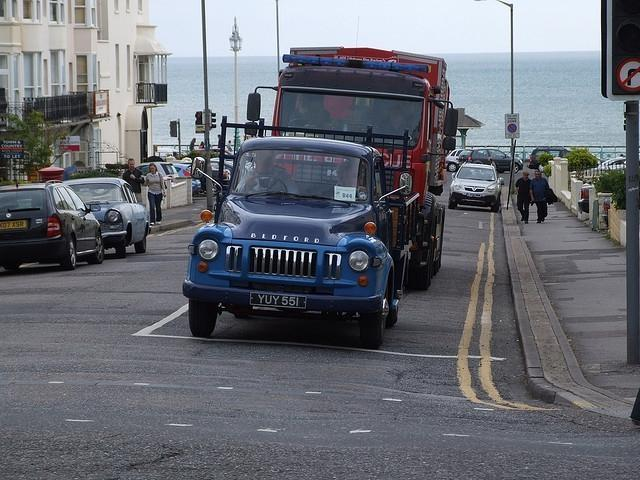car: (0, 183, 105, 274), (64, 178, 152, 258), (448, 160, 506, 214), (458, 146, 526, 174), (527, 149, 572, 171), (173, 164, 200, 194), (135, 162, 180, 178), (210, 158, 232, 184), (444, 149, 464, 173), (598, 156, 626, 168)
truck: (248, 46, 456, 288), (180, 134, 406, 352)
